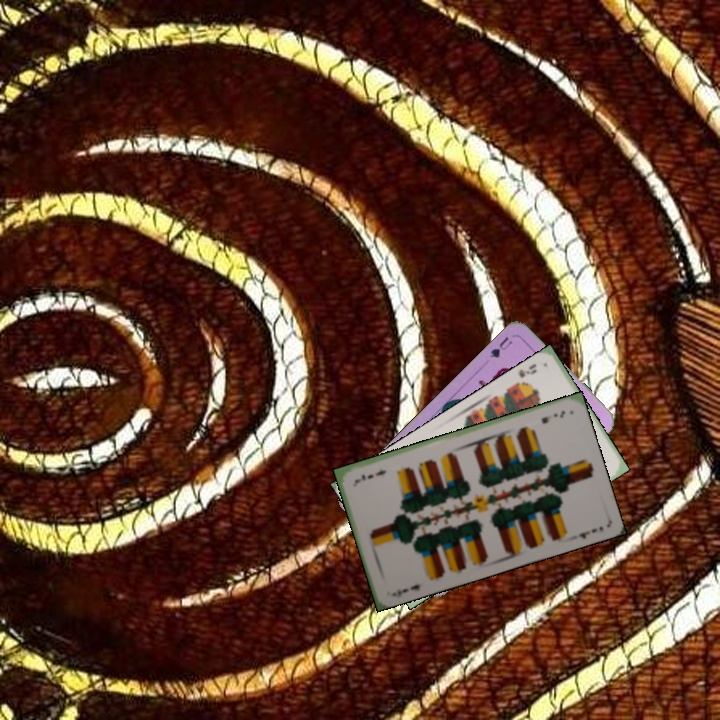E7: (388, 580, 422, 600), (537, 406, 568, 426)
GU: (486, 332, 515, 360)
S9: (509, 359, 540, 389)
